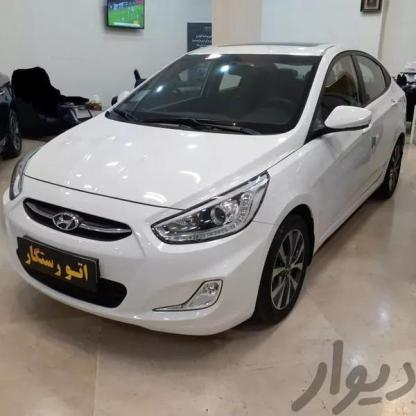Car: (0, 25, 416, 345)
